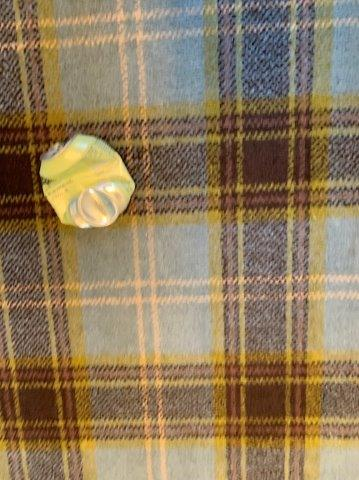kaleng: (39, 133, 136, 229)
